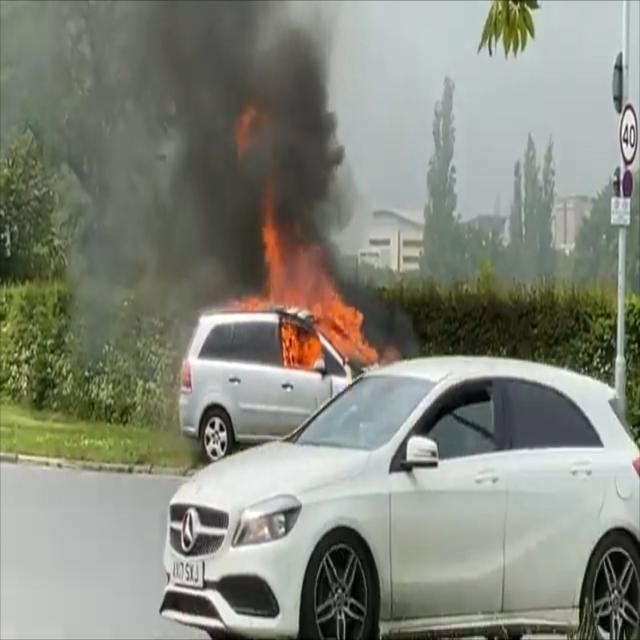fire: (236, 190, 384, 381)
